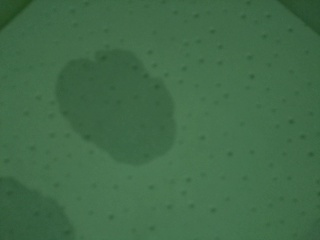Water_detected: (58, 59, 160, 154), (5, 192, 68, 240)
